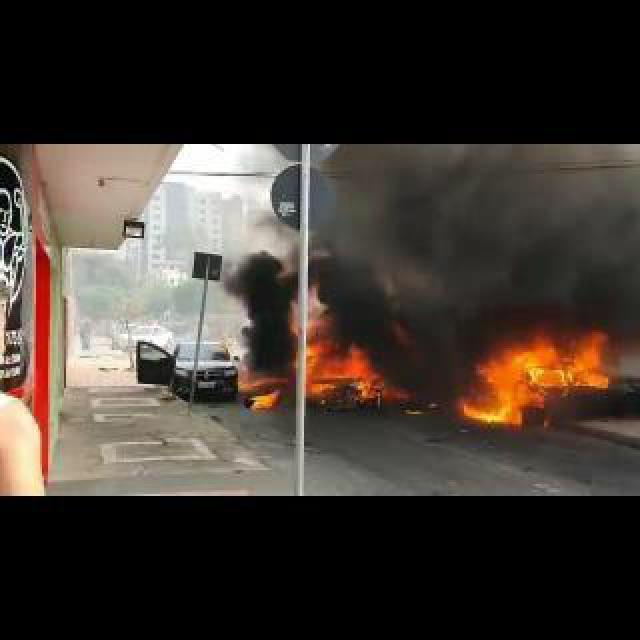Fire: (454, 332, 616, 424), (222, 238, 306, 384), (300, 302, 378, 398), (252, 388, 278, 412)
